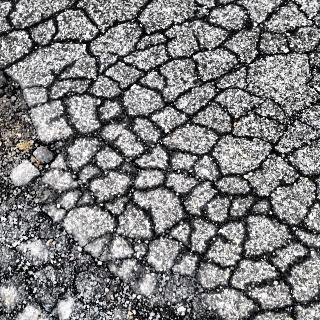alligator-crack: (0, 0, 320, 320)
crack: (40, 310, 41, 311)
